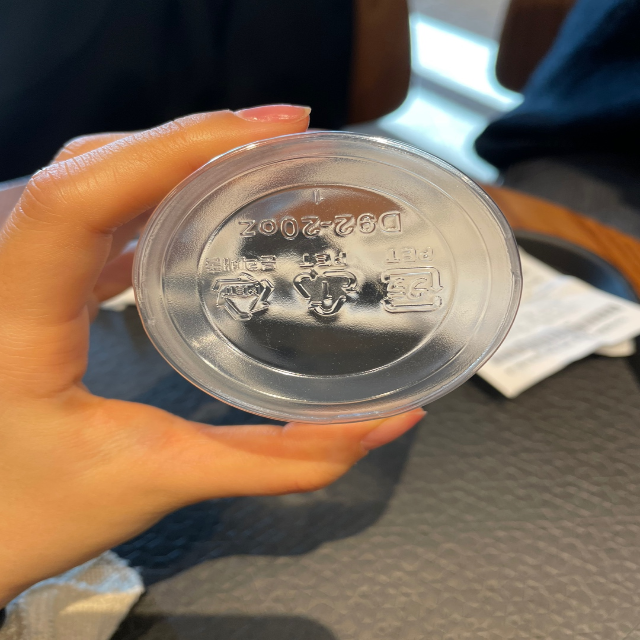pet: (203, 243, 281, 323), (291, 244, 365, 327), (376, 235, 450, 318)
